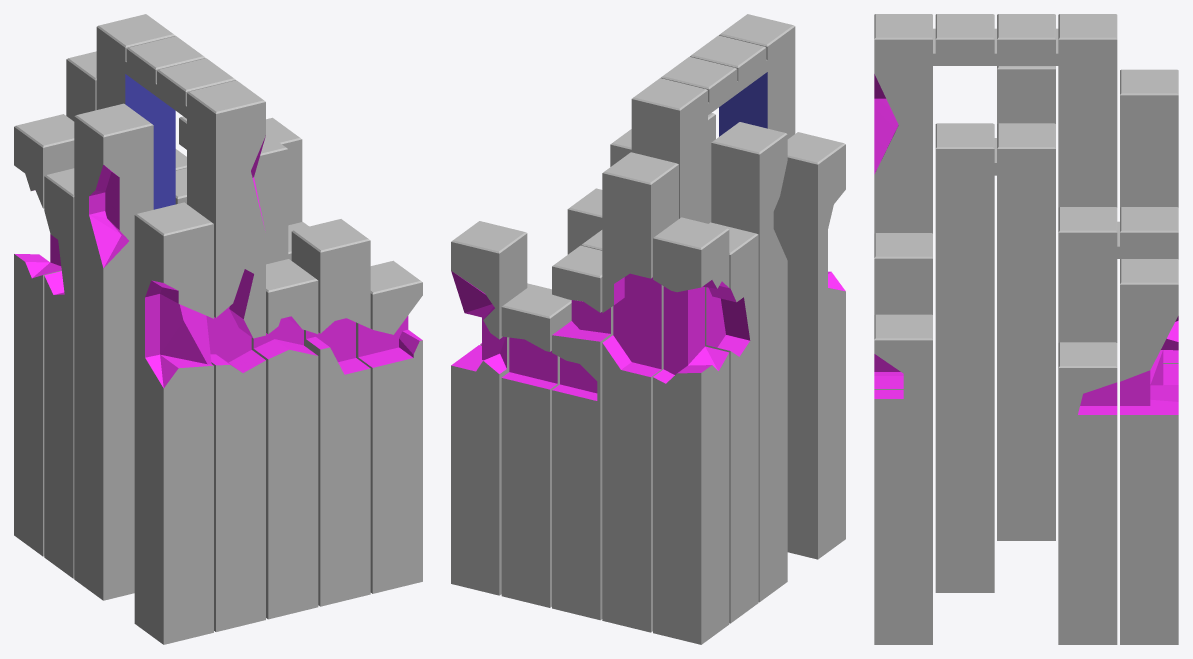
Rendered from ZAMOK_SBOR.fbx.
3 views of the same model, side by side, from view 1: azimuth 30°, elevation 25°; view 2: azimuth 150°, elevation 25°; view 3: azimuth 270°, elevation 25° (orthographic). The views are drawn at different scales.
Visible parts, largest first — view 1: x_VOROTA_BLOCKS_part12_1, x_VOROTA_BLOCKS_part10_1, x_VOROTA_BLOCKS_part9_1, x_VOROTA_BLOCKS_part2_1, x_VOROTA_BLOCKS_part3_1, x_VOROTA_BLOCKS_part1_1, x_VOROTA_BLOCKS_part7_1, x_VOROTA_BLOCKS_part8_1, x_VOROTA_BLOCKS_part4_1, x_VOROTA_BLOCKS_part6_1, x_VOROTA_BLOCKS_part14_1, x_VOROTA_BLOCKS_part5_1; view 2: x_VOROTA_BLOCKS_part7_1, x_VOROTA_BLOCKS_part6_1, x_VOROTA_BLOCKS_part10_1, x_VOROTA_BLOCKS_part14_1, x_VOROTA_BLOCKS_part5_1, x_VOROTA_BLOCKS_part9_1, x_VOROTA_BLOCKS_part12_1, x_VOROTA_BLOCKS_part15_1, x_VOROTA_BLOCKS_part8_1, x_VOROTA_BLOCKS_part1_1, x_VOROTA_BLOCKS_part4_1; view 3: x_VOROTA_BLOCKS_part12_1, x_VOROTA_BLOCKS_part4_1, x_VOROTA_BLOCKS_part9_1, x_VOROTA_BLOCKS_part14_1, x_VOROTA_BLOCKS_part1_1, x_VOROTA_BLOCKS_part13_1, x_VOROTA_BLOCKS_part6_1, x_VOROTA_BLOCKS_part5_1, x_VOROTA_BLOCKS_part2_1.
Boxes of the visible parts, x1,y1,x2,y2 form: x_VOROTA_BLOCKS_part12_1: (96, 14, 265, 631); x_VOROTA_BLOCKS_part10_1: (134, 202, 213, 644); x_VOROTA_BLOCKS_part9_1: (74, 103, 153, 600); x_VOROTA_BLOCKS_part2_1: (291, 219, 370, 606); x_VOROTA_BLOCKS_part3_1: (251, 259, 318, 619); x_VOROTA_BLOCKS_part1_1: (356, 260, 422, 593); x_VOROTA_BLOCKS_part7_1: (14, 114, 74, 556); x_VOROTA_BLOCKS_part8_1: (44, 168, 74, 578); x_VOROTA_BLOCKS_part4_1: (179, 116, 288, 264); x_VOROTA_BLOCKS_part6_1: (66, 51, 96, 121); x_VOROTA_BLOCKS_part14_1: (266, 117, 302, 225); x_VOROTA_BLOCKS_part5_1: (175, 149, 186, 204); x_VOROTA_BLOCKS_part7_1: (653, 217, 729, 644); x_VOROTA_BLOCKS_part6_1: (602, 152, 678, 632); x_VOROTA_BLOCKS_part10_1: (773, 132, 845, 559); x_VOROTA_BLOCKS_part14_1: (451, 221, 527, 595); x_VOROTA_BLOCKS_part5_1: (552, 230, 613, 620); x_VOROTA_BLOCKS_part9_1: (711, 122, 787, 602); x_VOROTA_BLOCKS_part12_1: (631, 14, 795, 223); x_VOROTA_BLOCKS_part15_1: (501, 286, 571, 607); x_VOROTA_BLOCKS_part8_1: (705, 222, 758, 623); x_VOROTA_BLOCKS_part1_1: (567, 188, 602, 254); x_VOROTA_BLOCKS_part4_1: (610, 113, 715, 223); x_VOROTA_BLOCKS_part12_1: (874, 14, 1117, 342); x_VOROTA_BLOCKS_part4_1: (935, 123, 1055, 592); x_VOROTA_BLOCKS_part9_1: (997, 66, 1055, 540); x_VOROTA_BLOCKS_part14_1: (1120, 259, 1178, 644); x_VOROTA_BLOCKS_part1_1: (874, 314, 932, 644); x_VOROTA_BLOCKS_part13_1: (1058, 342, 1117, 644); x_VOROTA_BLOCKS_part6_1: (1120, 69, 1178, 207); x_VOROTA_BLOCKS_part5_1: (1058, 207, 1178, 363); x_VOROTA_BLOCKS_part2_1: (874, 233, 932, 389).
Size of the model in its own units: 9.92 by 19 by 9.92.
